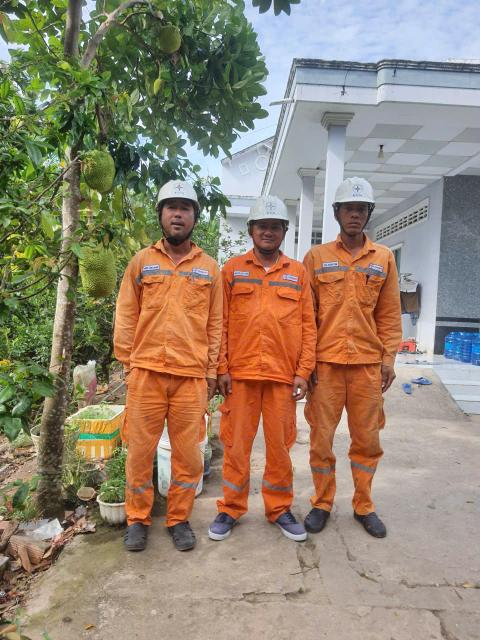helmet: (240, 188, 298, 230), (150, 175, 203, 219), (332, 174, 382, 207)
shoes: (264, 501, 311, 548), (347, 505, 396, 543), (164, 514, 205, 558), (119, 513, 155, 561), (204, 497, 237, 549), (301, 494, 331, 542)
